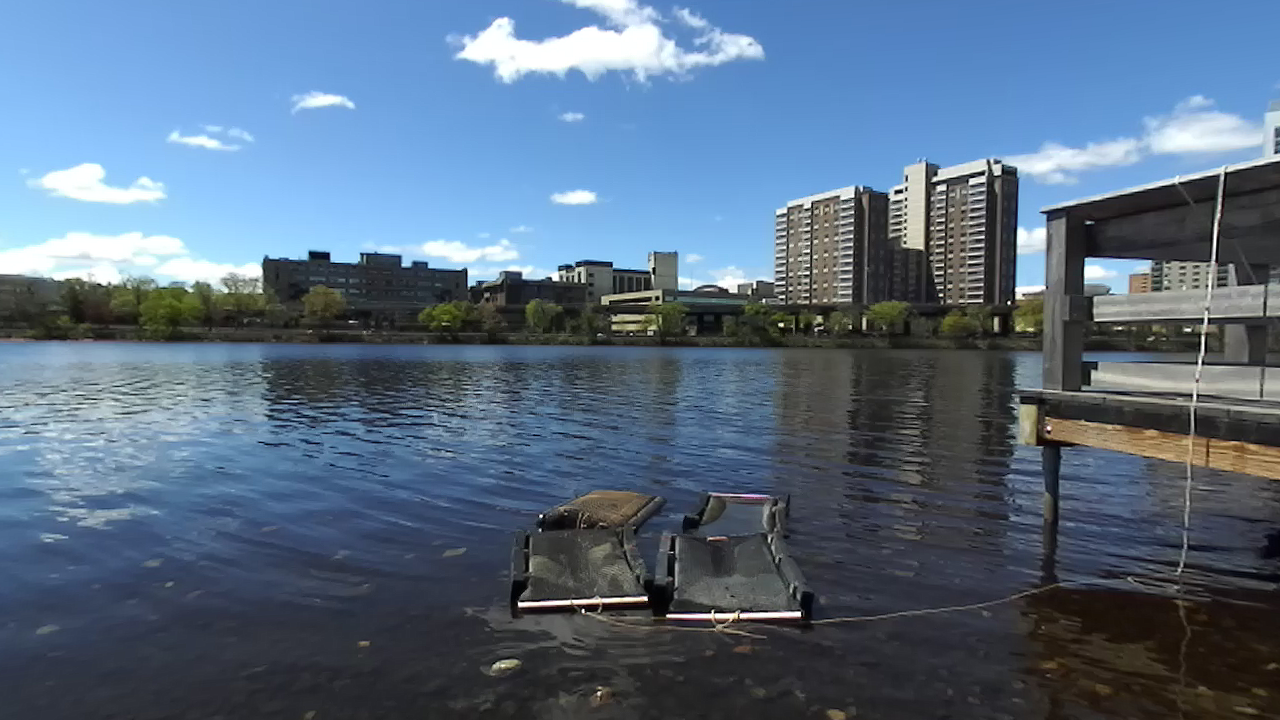bag: (651, 532, 815, 619), (510, 527, 651, 615), (681, 490, 793, 534), (540, 488, 662, 528)
